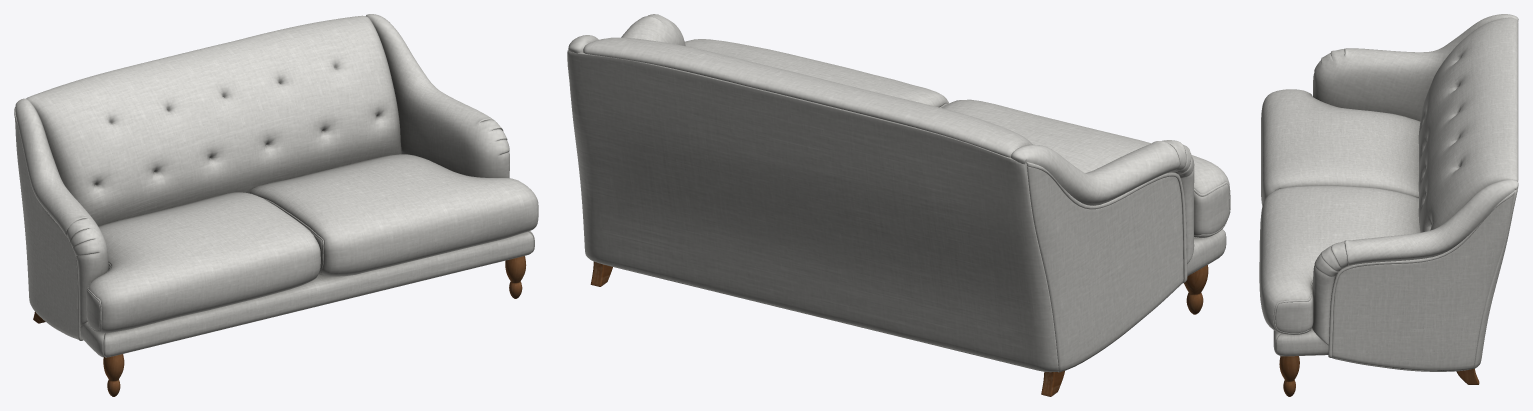
The model's file is sofa_prin.obj.
3 views of the same model, side by side, from view 1: azimuth 30°, elevation 25°; view 2: azimuth 150°, elevation 25°; view 3: azimuth 270°, elevation 25° (orthographic). The views are drawn at different scales.
Visible parts, largest first — view 1: Ariana_3_Seater_Sofa_Chic_Grey; view 2: Ariana_3_Seater_Sofa_Chic_Grey; view 3: Ariana_3_Seater_Sofa_Chic_Grey.
Boxes of the visible parts, x1,y1,x2,y2 form: Ariana_3_Seater_Sofa_Chic_Grey: (14,14,538,396); Ariana_3_Seater_Sofa_Chic_Grey: (567,14,1230,396); Ariana_3_Seater_Sofa_Chic_Grey: (1259,14,1518,396).
Size of the model in its own units: 189 by 87.95 by 99.32.
1 material, 1 textured.
